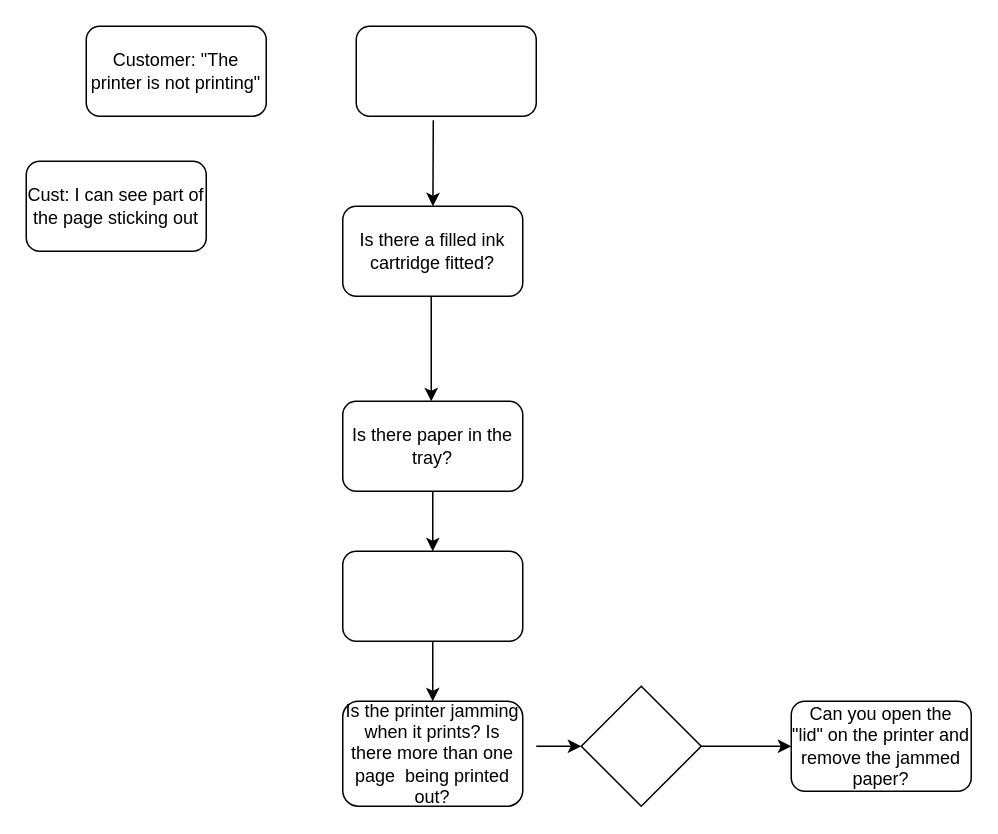
Some shapes in this 998 by 834 pixel diagram are drawn without their labels. The centre of each missing label's shape, as x and y in pixels:
"Is it plugged in?" belongs at (445,70).
"Is the paper properly fitted/fitting in the track?" belongs at (432,595).
"YES" belongs at (640,745).
